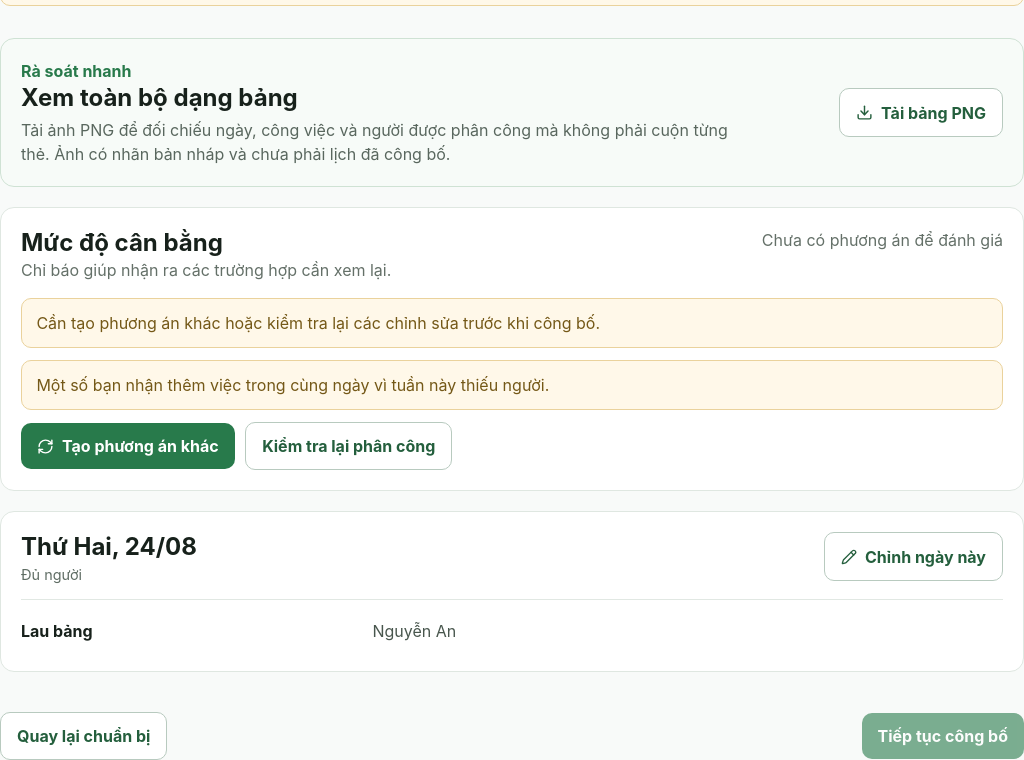
Test case: WeekEditorPage › labels an outside-group choice as a teacher assignment without extra task capacity
(page scrolled)
Click the button "Chỉnh ngày này" at (914, 557), box [824,532,1003,581]
(page scrolled)
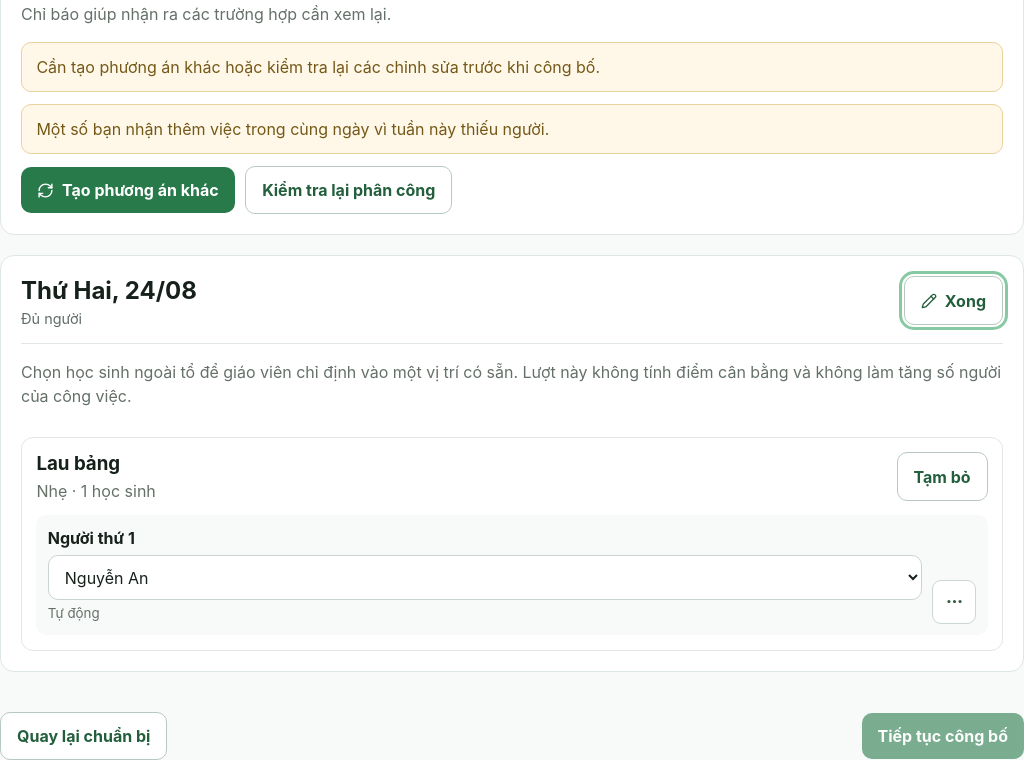
Select "Trần Bình — Tổ 2" in the dropdown labelled "Người thứ 1" at (485, 578), box [48,555,922,600]
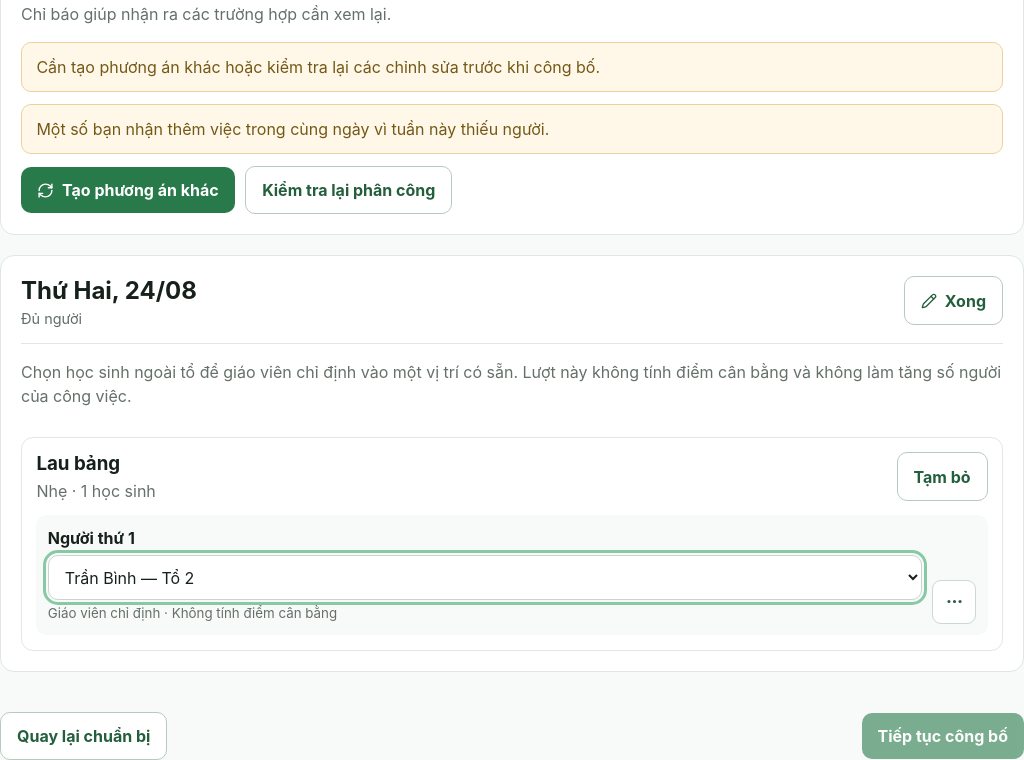
expect the text "Giáo viên chỉ định · Không tính điểm cân bằng" is shown: met, box [48,604,337,624]
